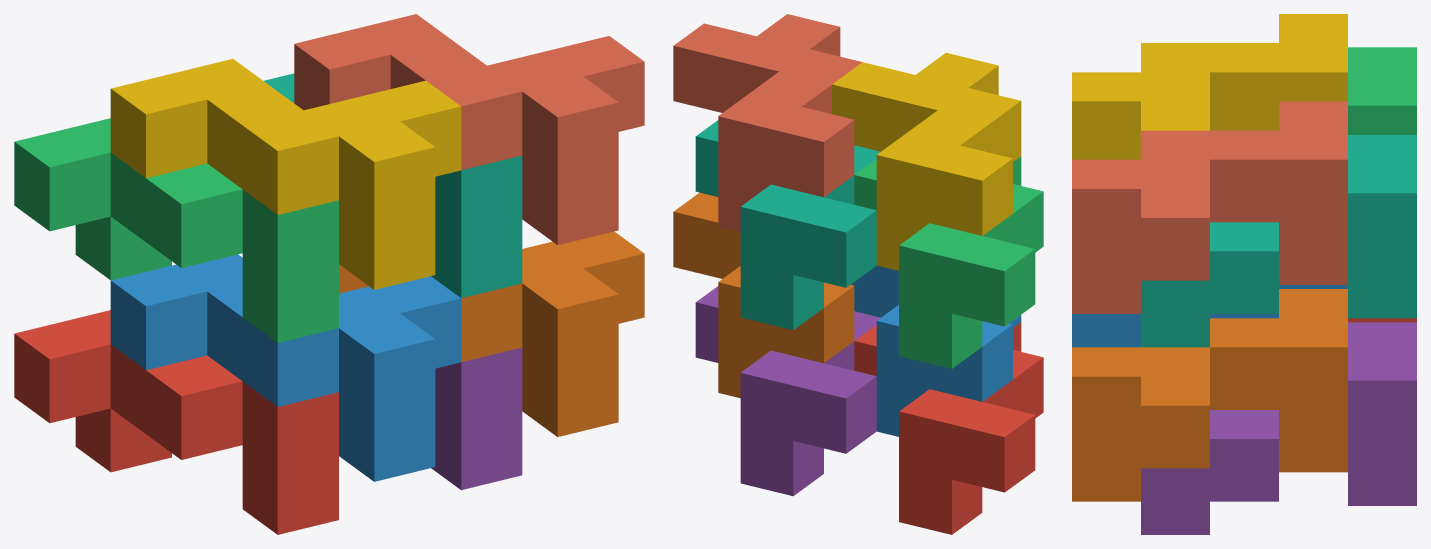
File: tiling.obj
The picture shows the model from 3 angles, left to right: view 1: azimuth 30°, elevation 25°; view 2: azimuth 150°, elevation 25°; view 3: azimuth 270°, elevation 25°; orthographic projection. The views are drawn at different scales.
Visible parts, largest first — view 1: copy_1_domain_4, copy_1_domain_2, copy_1_domain_8, copy_1_domain_1, copy_1_domain_3, copy_1_domain_6, copy_1_domain_7, copy_1_domain_5; view 2: copy_1_domain_4, copy_1_domain_8, copy_1_domain_1, copy_1_domain_3, copy_1_domain_5, copy_1_domain_7, copy_1_domain_6, copy_1_domain_2; view 3: copy_1_domain_8, copy_1_domain_6, copy_1_domain_4, copy_1_domain_7, copy_1_domain_5, copy_1_domain_3, copy_1_domain_2.
Boxes of the visible parts, bbox=[...] form: copy_1_domain_4: bbox=[110, 59, 461, 289]; copy_1_domain_2: bbox=[110, 254, 461, 481]; copy_1_domain_8: bbox=[294, 14, 644, 245]; copy_1_domain_1: bbox=[14, 310, 338, 534]; copy_1_domain_3: bbox=[14, 118, 338, 342]; copy_1_domain_6: bbox=[339, 231, 644, 436]; copy_1_domain_7: bbox=[264, 73, 522, 298]; copy_1_domain_5: bbox=[431, 347, 522, 490]; copy_1_domain_4: bbox=[832, 52, 1021, 270]; copy_1_domain_8: bbox=[673, 14, 862, 232]; copy_1_domain_1: bbox=[854, 322, 1043, 534]; copy_1_domain_3: bbox=[854, 156, 1043, 368]; copy_1_domain_5: bbox=[695, 286, 880, 496]; copy_1_domain_7: bbox=[695, 120, 880, 330]; copy_1_domain_6: bbox=[673, 192, 854, 398]; copy_1_domain_2: bbox=[851, 265, 1021, 436]; copy_1_domain_8: bbox=[1072, 101, 1347, 313]; copy_1_domain_6: bbox=[1072, 289, 1347, 501]; copy_1_domain_4: bbox=[1072, 14, 1347, 159]; copy_1_domain_7: bbox=[1141, 135, 1416, 347]; copy_1_domain_5: bbox=[1141, 322, 1416, 534]; copy_1_domain_3: bbox=[1348, 47, 1416, 134]; copy_1_domain_2: bbox=[1072, 285, 1347, 347].
Size of the model in its own units: 8 by 6 by 5.
